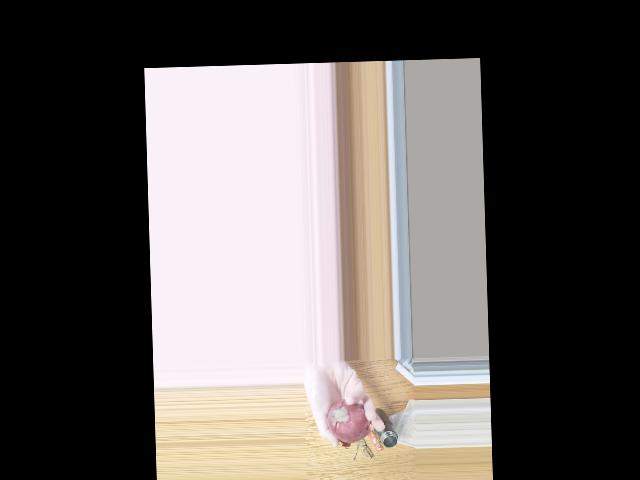onion: (327, 399, 363, 441)
